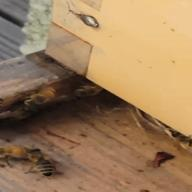Bee: (4, 144, 73, 179)
